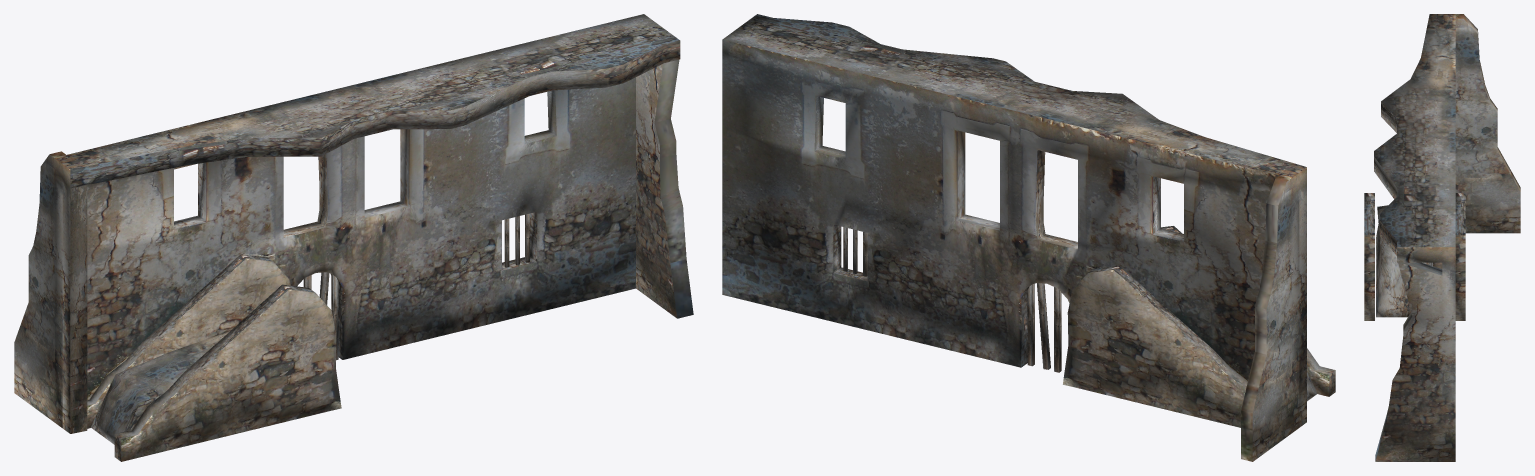
Rendered from war_torn11.obj.
The picture shows the model from 3 angles, left to right: view 1: azimuth 30°, elevation 25°; view 2: azimuth 150°, elevation 25°; view 3: azimuth 270°, elevation 25°; orthographic projection. The views are drawn at different scales.
Parts seen in each view (by area): view 1: worn_torn11; view 2: worn_torn11; view 3: worn_torn11.
Part boxes in pixels (left/top/right/bottom): worn_torn11: left=14, top=14, right=693, bottom=461; worn_torn11: left=722, top=14, right=1335, bottom=461; worn_torn11: left=1364, top=14, right=1520, bottom=461.
Bounding box in the file's own units: 490 × 211 × 139.
1 material, 1 textured.
